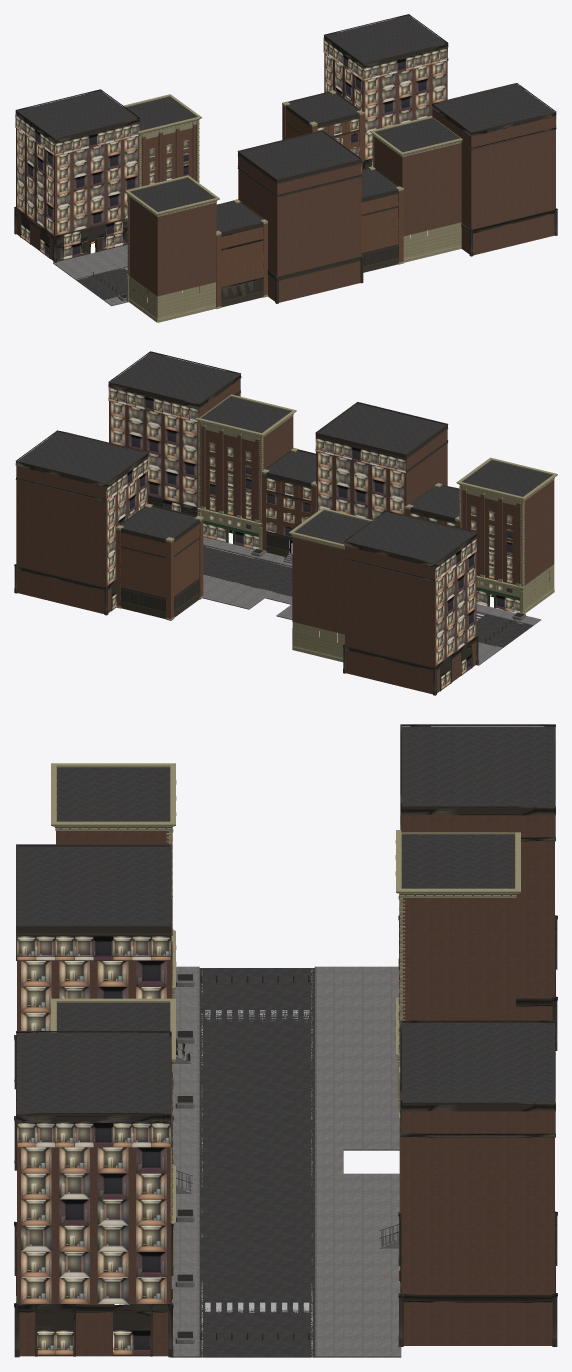
Rendered from downtown.glb.
The picture shows the model from 3 angles, top to bottom: view 1: azimuth 30°, elevation 25°; view 2: azimuth 150°, elevation 25°; view 3: azimuth 270°, elevation 25°; orthographic projection. The views are drawn at different scales.
Visible parts, largest first — view 1: nearR1, far3, far0, far5, nearL1, far1, nearR0, far4, far2, nearL0, street; view 2: nearR1, nearL1, far0, far3, far5, far1, nearL0, nearR0, street, far2, far4; view 3: street, nearL1, far0, far3, nearR1, nearR0, far5, far1.
Part boxes in pixels (x1,y1,x2,y2): nearR1: (14, 89, 140, 262); far3: (237, 130, 363, 303); far0: (431, 83, 557, 256); far5: (125, 175, 219, 322); nearL1: (323, 14, 448, 168); far1: (369, 116, 462, 262); nearR0: (122, 94, 201, 186); far4: (215, 199, 267, 308); far2: (361, 166, 403, 272); nearL0: (282, 90, 364, 168); street: (53, 245, 127, 306); nearR1: (343, 510, 478, 695); nearL1: (14, 430, 148, 615); far0: (108, 351, 241, 515); far3: (315, 402, 448, 519); far5: (456, 457, 557, 613); far1: (195, 394, 296, 549); nearL0: (116, 503, 203, 620); nearR0: (289, 508, 373, 662); street: (202, 537, 541, 665); far2: (260, 447, 317, 563); far4: (404, 483, 460, 528); street: (171, 966, 401, 1357); nearL1: (398, 1020, 557, 1346); far0: (14, 1031, 173, 1357); far3: (14, 844, 173, 1170); nearR1: (398, 724, 557, 1050); nearR0: (395, 830, 520, 1107); far5: (51, 763, 176, 998); far1: (51, 998, 176, 1275).
Bounding box in the file's own units: 96.32 × 28.15 × 56.64.
Materials: 7 (7 with a texture image).
